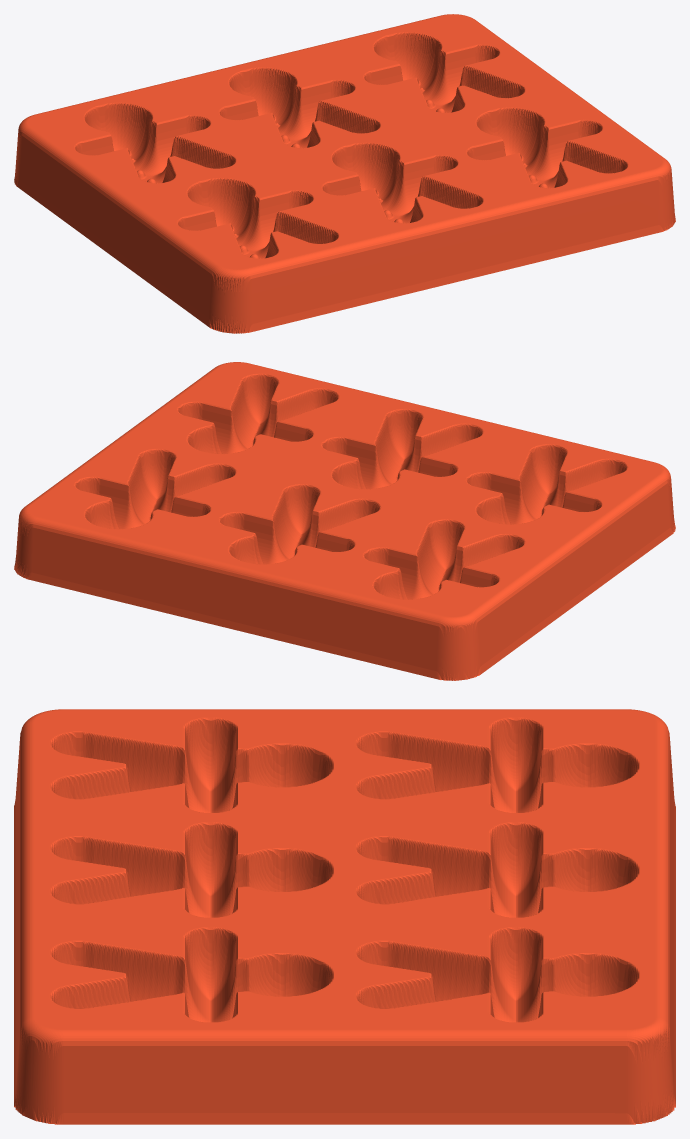
The model's file is mold.glb.
3 views of the same model, one above another, from view 1: azimuth 30°, elevation 25°; view 2: azimuth 150°, elevation 25°; view 3: azimuth 270°, elevation 25° (orthographic). The views are drawn at different scales.
Visible parts, largest first — view 1: geometry_0; view 2: geometry_0; view 3: geometry_0.
Part boxes in pixels (x1,y1,x2,y2): geometry_0: [14, 14, 675, 333]; geometry_0: [14, 362, 675, 680]; geometry_0: [14, 709, 675, 1124].
Bounding box in the file's own units: 0.1454 × 0.0175 × 0.1211.
